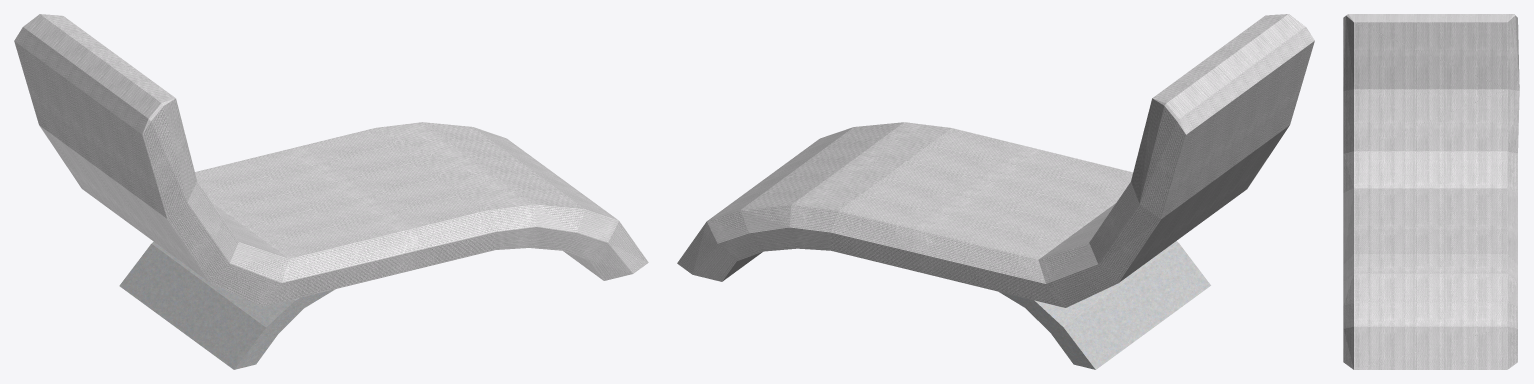
File: frn_all_mdrn_love_seat_s01_l0.fbx
The picture shows the model from 3 angles, left to right: view 1: azimuth 30°, elevation 25°; view 2: azimuth 150°, elevation 25°; view 3: azimuth 270°, elevation 25°; orthographic projection. The views are drawn at different scales.
Visible parts, largest first — view 1: mesh_node; view 2: mesh_node; view 3: mesh_node.
Boxes of the visible parts, bbox=[...] form: mesh_node: bbox=[14, 14, 648, 369]; mesh_node: bbox=[677, 14, 1314, 369]; mesh_node: bbox=[1343, 14, 1519, 369].
Bounding box in the file's own units: 2.35 × 1.25 × 1.03.
